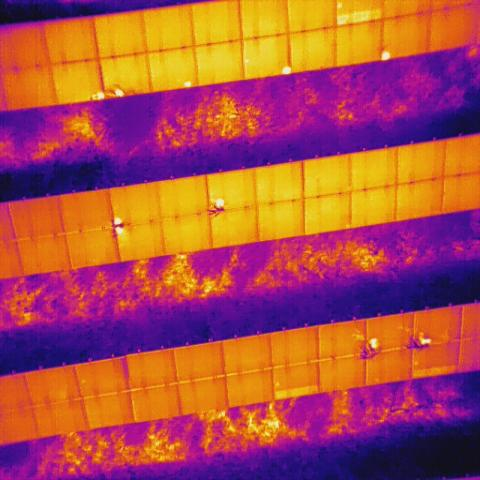fault: (335, 6, 384, 27), (418, 336, 434, 349), (368, 336, 380, 352), (212, 196, 226, 208), (90, 92, 106, 101), (113, 224, 123, 237), (113, 86, 123, 98), (280, 65, 290, 76), (181, 78, 190, 89), (381, 52, 391, 61), (112, 216, 123, 224)
